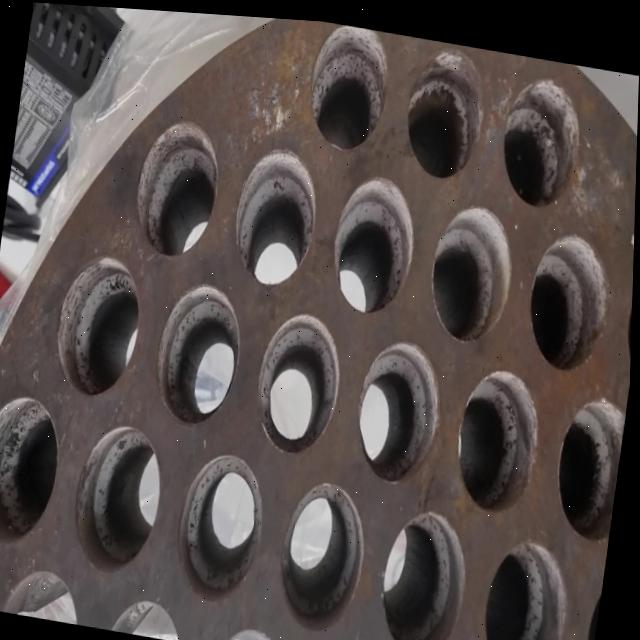Hole: (69, 416, 171, 577), (275, 469, 375, 632), (173, 442, 273, 604), (450, 354, 549, 512), (150, 273, 248, 430), (352, 328, 450, 483), (251, 301, 348, 456), (51, 247, 148, 401), (326, 163, 423, 316), (424, 191, 520, 342), (228, 137, 324, 288), (130, 110, 226, 261), (522, 219, 617, 370), (377, 499, 476, 640), (398, 36, 491, 179), (494, 63, 585, 206), (550, 380, 630, 535), (302, 16, 393, 152), (478, 525, 579, 640), (0, 389, 68, 550)
